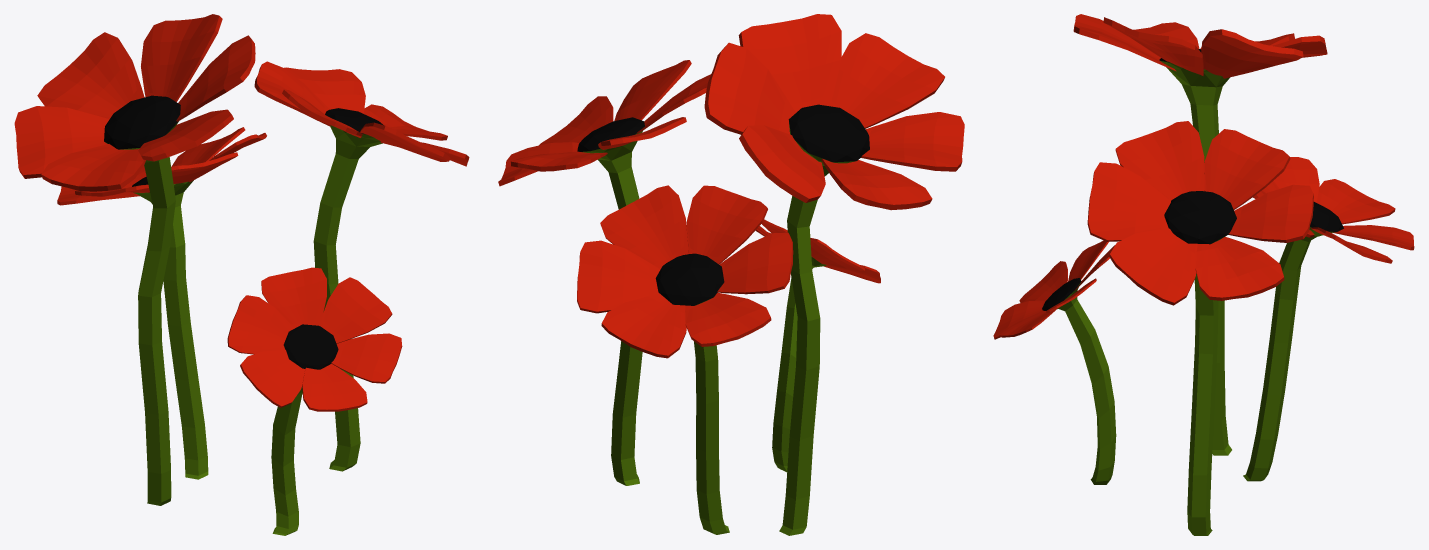
Rendered from flowers_red.fbx.
The picture shows the model from 3 angles, left to right: view 1: azimuth 30°, elevation 25°; view 2: azimuth 150°, elevation 25°; view 3: azimuth 270°, elevation 25°; orthographic projection. The views are drawn at different scales.
Parts seen in each view (by area): view 1: flwoers_red; view 2: flwoers_red; view 3: flwoers_red.
Boxes of the visible parts, <box> form: flwoers_red: <box>14,14,469,535</box>; flwoers_red: <box>498,14,964,535</box>; flwoers_red: <box>993,14,1414,535</box>.
Size of the model in its own units: 52.47 by 55.44 by 46.88.
